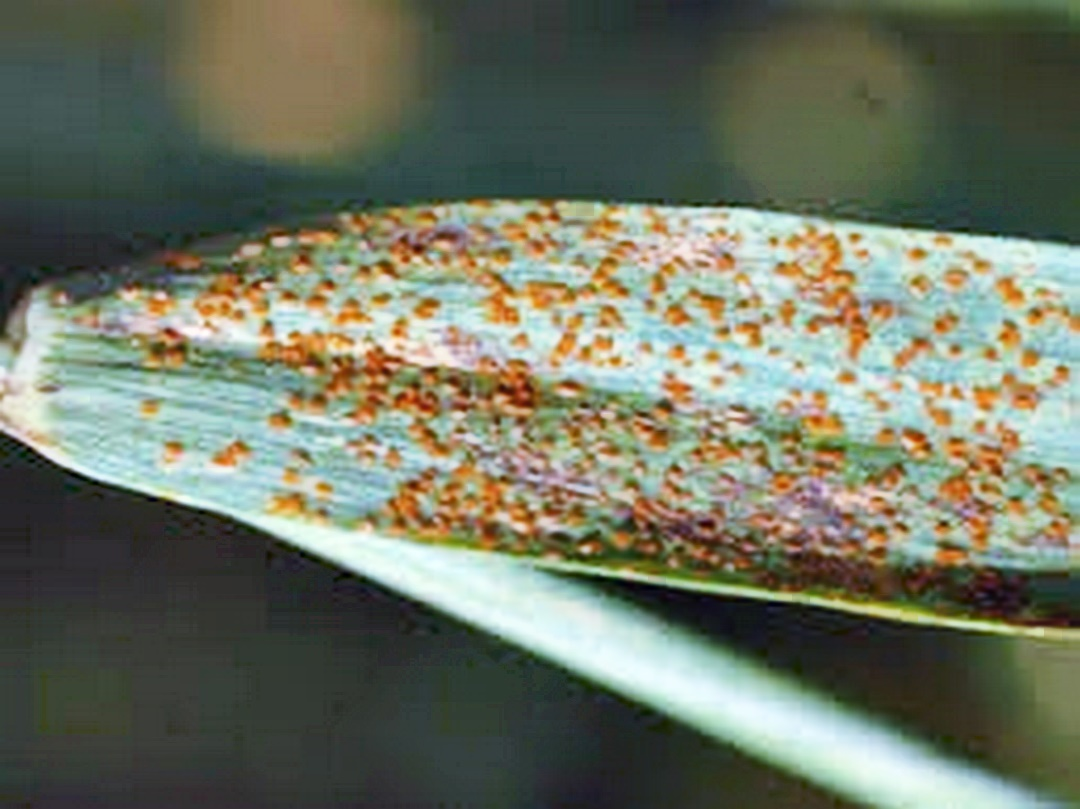Leaf Rust: (177, 204, 1022, 627)
